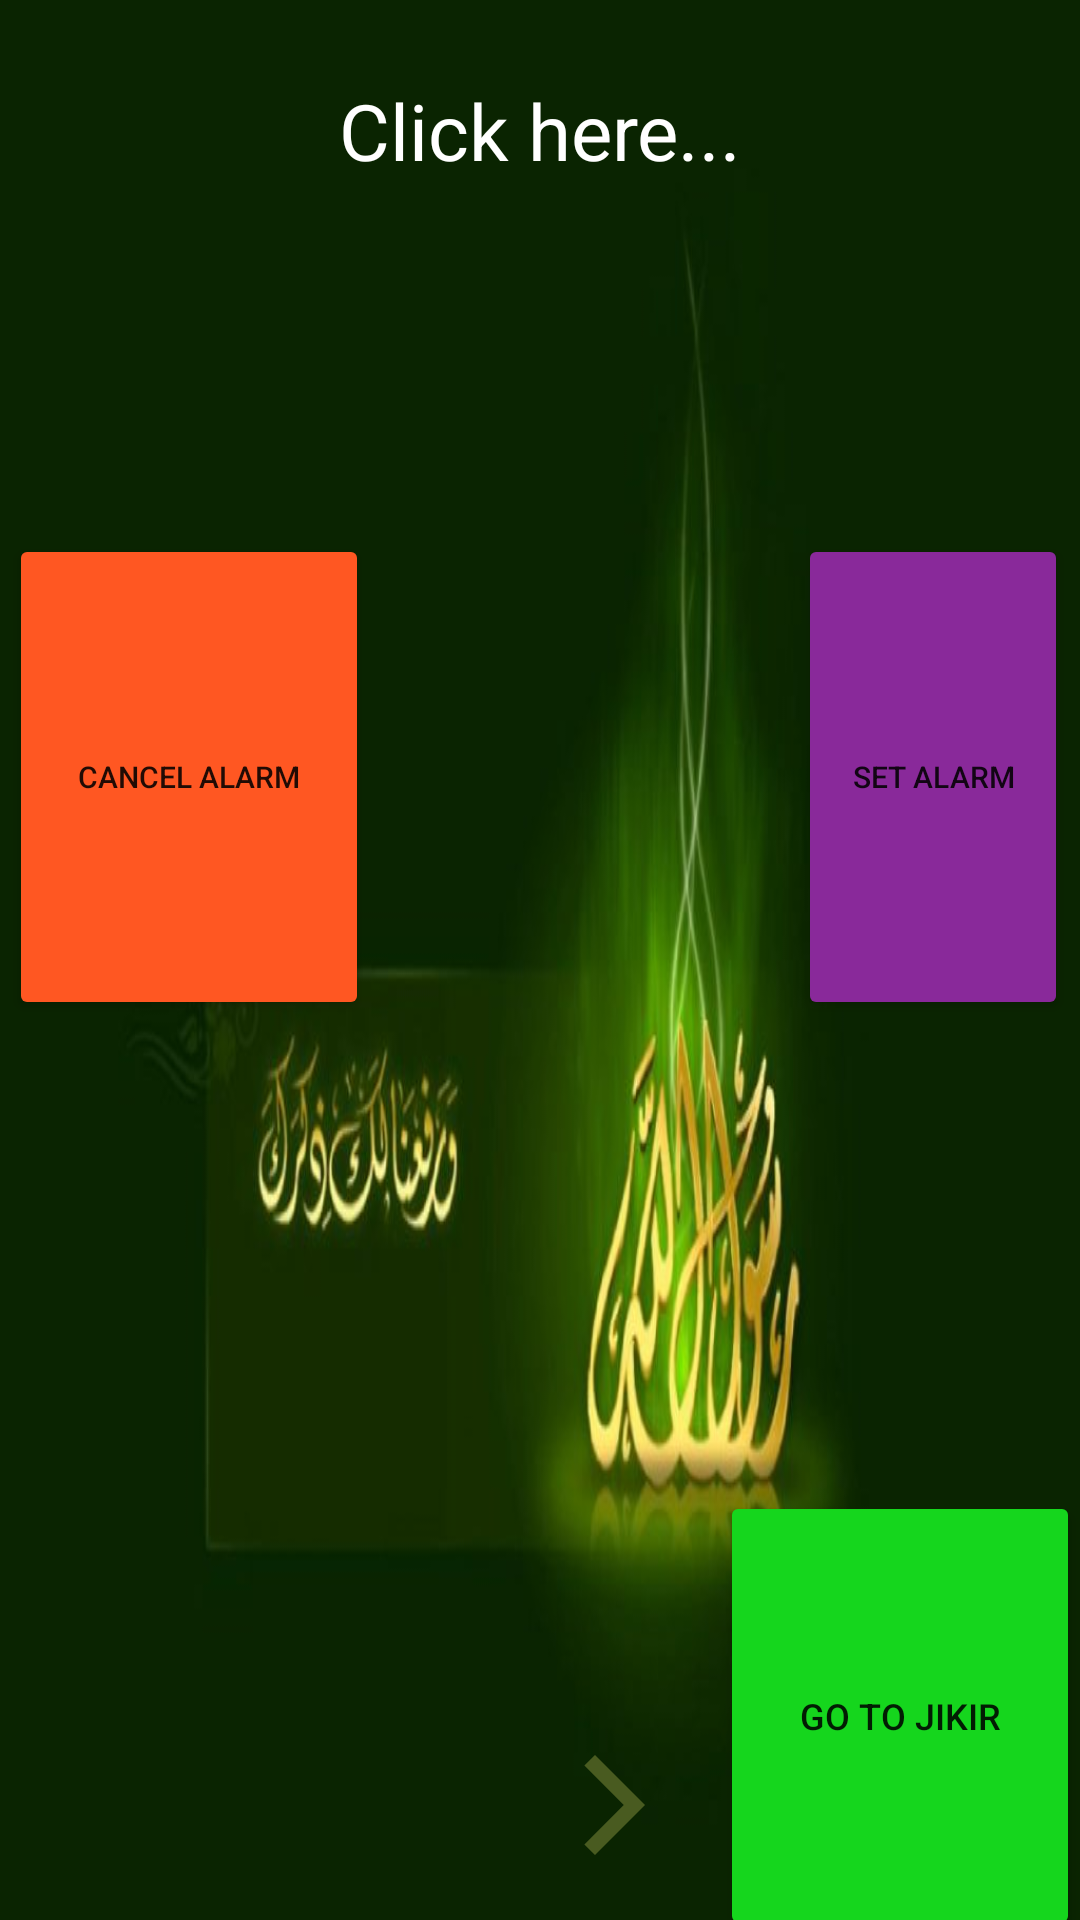

Where icons sit on this 1080 × 1920 app screen, as [left=x1, top=y1, right=x2, bottom=y2]:
next: [left=585, top=1755, right=645, bottom=1855]
